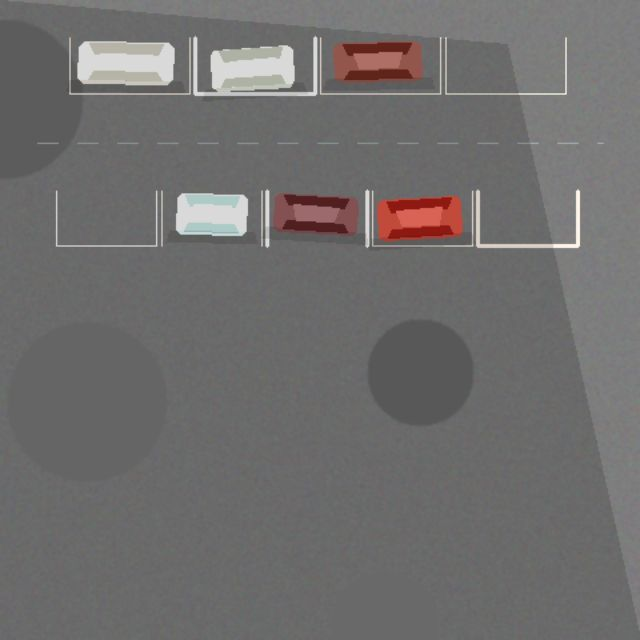space-empty: (445, 37, 565, 93), (56, 191, 156, 245), (477, 191, 577, 245)
space-occupied: (69, 37, 189, 93), (195, 37, 315, 93), (320, 37, 440, 93), (161, 191, 261, 245), (267, 191, 367, 245), (372, 191, 472, 245)
